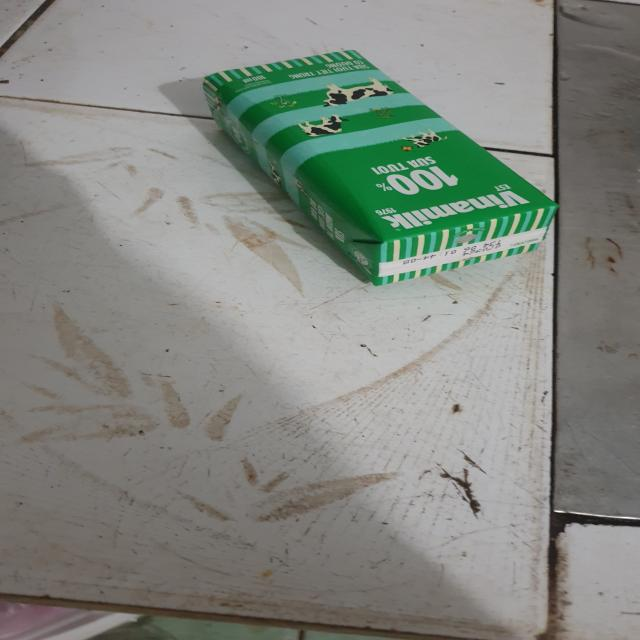Vina: (200, 47, 565, 289)
